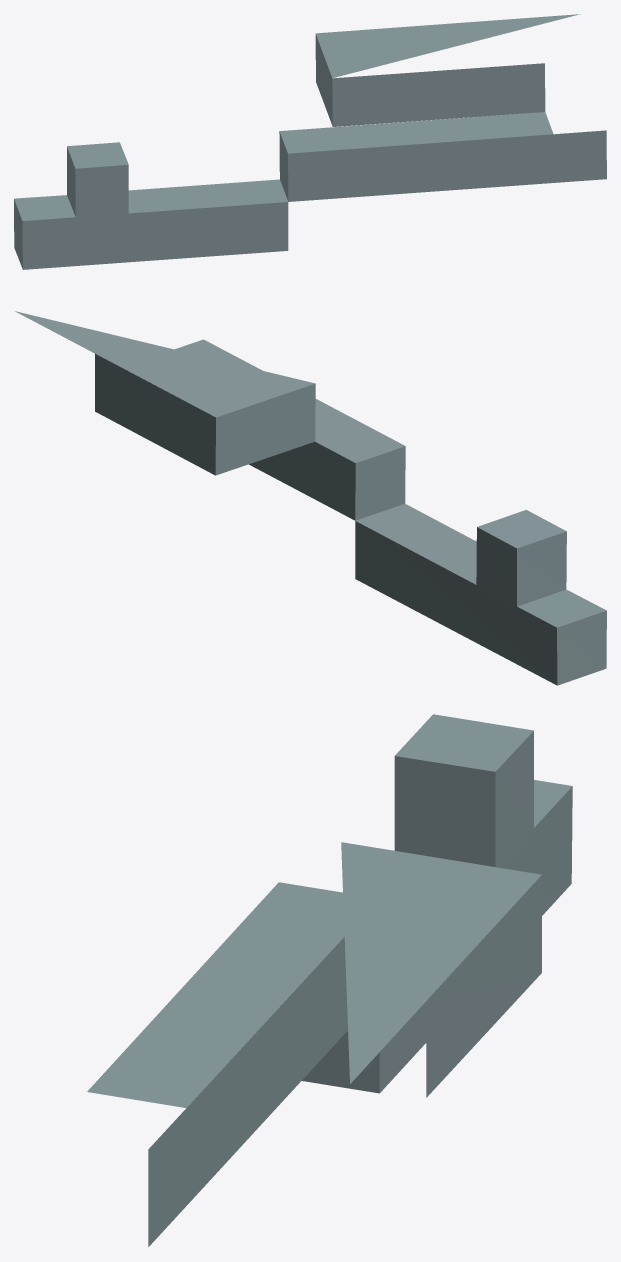
3 renders of one model, top to bottom at view 1: azimuth 30°, elevation 25°; view 2: azimuth 150°, elevation 25°; view 3: azimuth 270°, elevation 25°, orthographic. The views are drawn at different scales.
Parts seen in each view (by area): view 1: measured-industrial; view 2: measured-industrial; view 3: measured-industrial.
Boxes of the visible parts, x1,y1,x2,y2 form: measured-industrial: [14, 14, 606, 269]; measured-industrial: [15, 311, 606, 685]; measured-industrial: [87, 714, 572, 1246].
Bounding box in the file's own units: 17.01 × 4.59 × 7.31.
